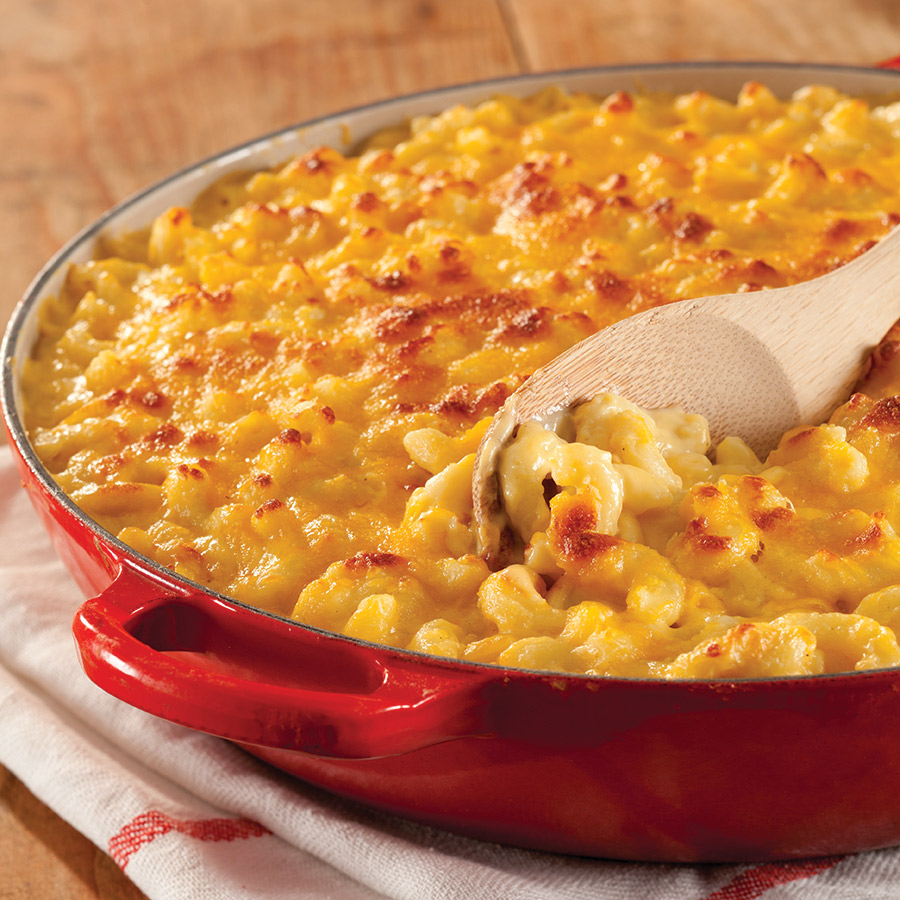macncheese: (242, 367, 818, 688)
